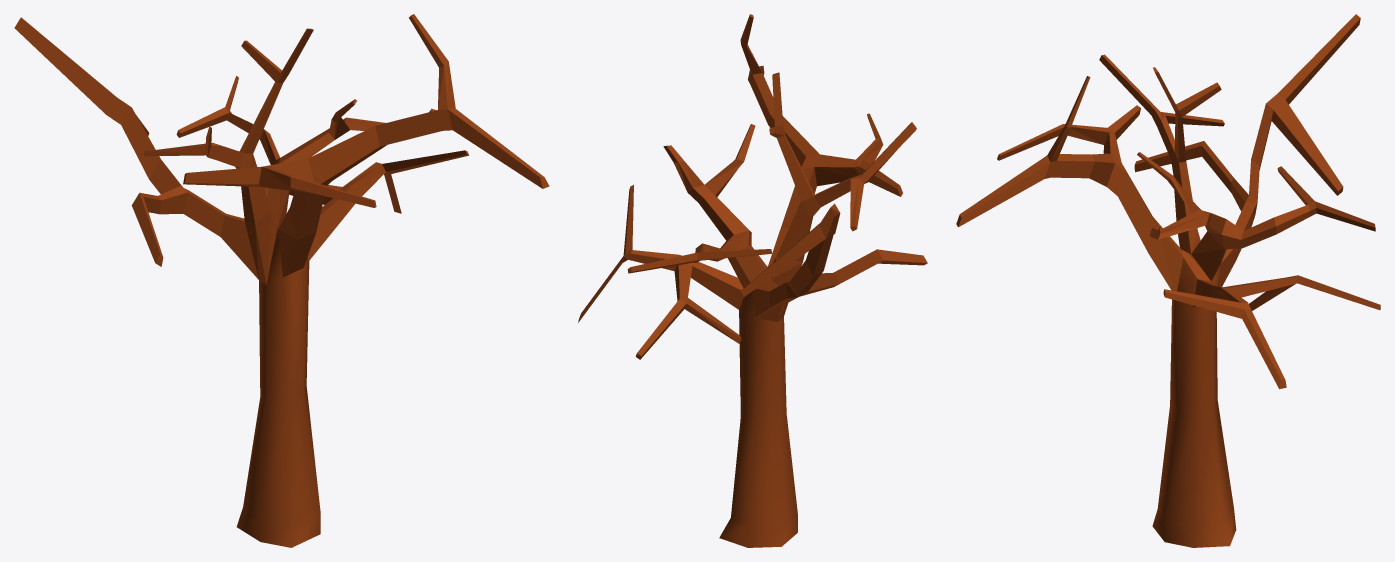
The model's file is baum_b001.FBX.
The picture shows the model from 3 angles, left to right: view 1: azimuth 30°, elevation 25°; view 2: azimuth 150°, elevation 25°; view 3: azimuth 270°, elevation 25°; orthographic projection. The views are drawn at different scales.
Parts seen in each view (by area): view 1: Baum_B001; view 2: Baum_B001; view 3: Baum_B001.
Part boxes in pixels (x1,y1,x2,y2): Baum_B001: (14,14,549,547); Baum_B001: (578,14,927,547); Baum_B001: (956,14,1380,547).
Size of the model in its own units: 22.28 by 32.79 by 25.81.
